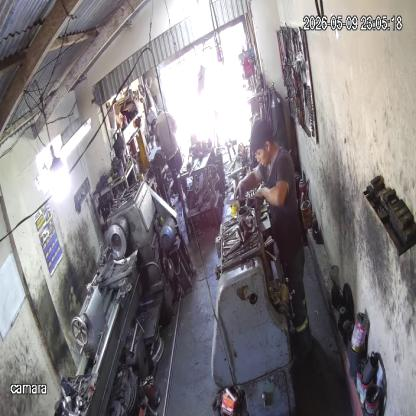sin_lentes: (248, 147, 269, 161)
